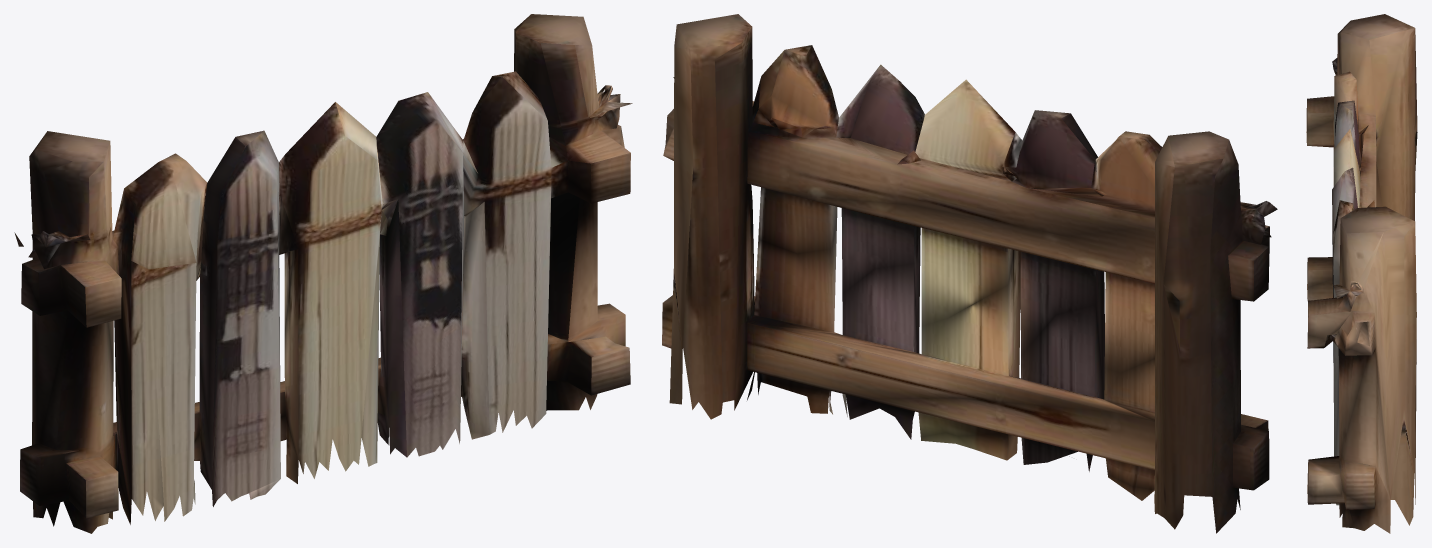
File: fence_east.glb
The picture shows the model from 3 angles, left to right: view 1: azimuth 30°, elevation 25°; view 2: azimuth 150°, elevation 25°; view 3: azimuth 270°, elevation 25°; orthographic projection. The views are drawn at different scales.
Visible parts, largest first — view 1: geometry_0; view 2: geometry_0; view 3: geometry_0.
Boxes of the visible parts, x1,y1,x2,y2 form: geometry_0: [14, 14, 632, 533]; geometry_0: [662, 14, 1277, 533]; geometry_0: [1306, 14, 1417, 533].
Size of the model in its own units: 2.49 by 1.51 by 0.4965.
Materials: 1 (1 with a texture image).
